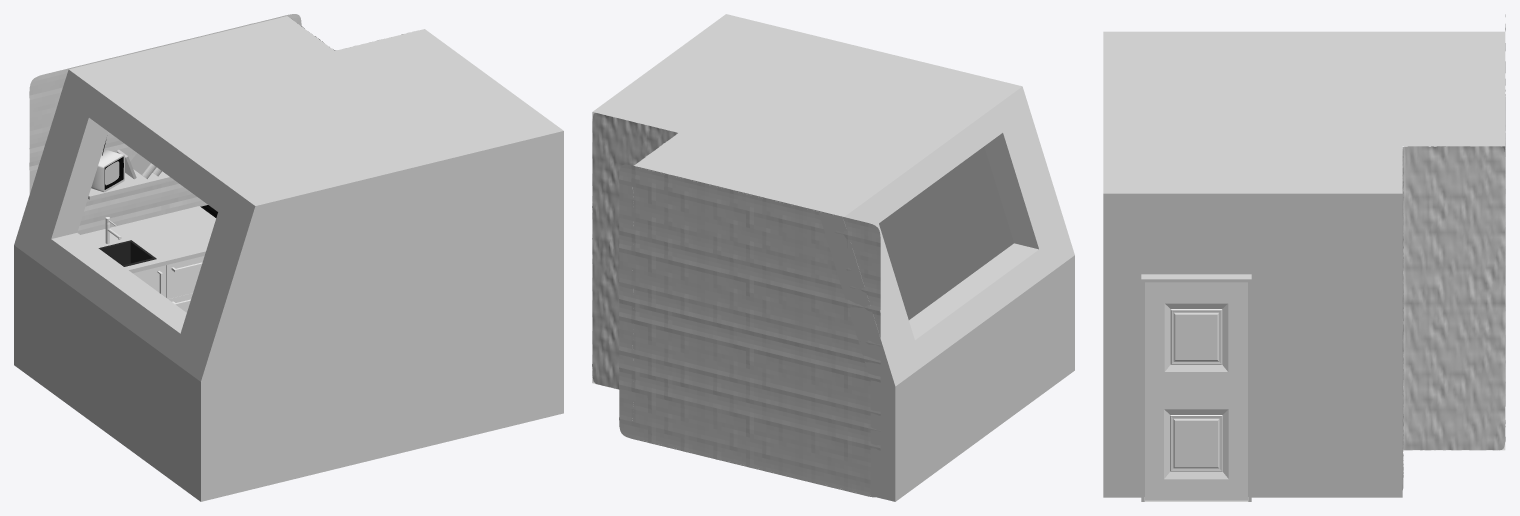
Rendered from kitchen.fbx.
3 renders of one model, left to right at view 1: azimuth 30°, elevation 25°; view 2: azimuth 150°, elevation 25°; view 3: azimuth 270°, elevation 25°, orthographic. The views are drawn at different scales.
Visible parts, largest first — view 1: Walls, Cube, bench -disk, bench -drawer, sink, shelf, TV; view 2: Walls, Cube, Brickwall; view 3: Walls, Brickwall, Door, Door -frame.
Part boxes in pixels (x1,y1,x2,y2): Walls: [14, 16, 563, 501]; Cube: [29, 14, 301, 234]; bench -disk: [81, 206, 215, 273]; bench -drawer: [166, 256, 204, 312]; sink: [98, 240, 156, 266]; shelf: [88, 169, 173, 199]; TV: [91, 149, 124, 192]; Walls: [592, 14, 1074, 501]; Cube: [619, 164, 880, 497]; Brickwall: [592, 113, 677, 420]; Walls: [1103, 31, 1505, 497]; Brickwall: [1402, 146, 1505, 489]; Door: [1145, 282, 1247, 500]; Door -frame: [1141, 274, 1251, 501].
Size of the model in its own units: 936 by 684 by 814.
